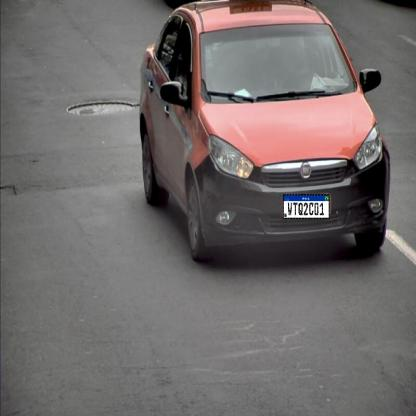PlacaM: (283, 194, 330, 219)
